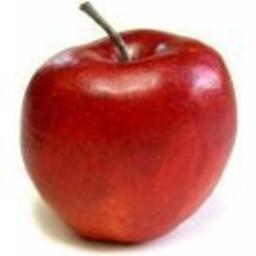apple: (19, 21, 238, 245)
